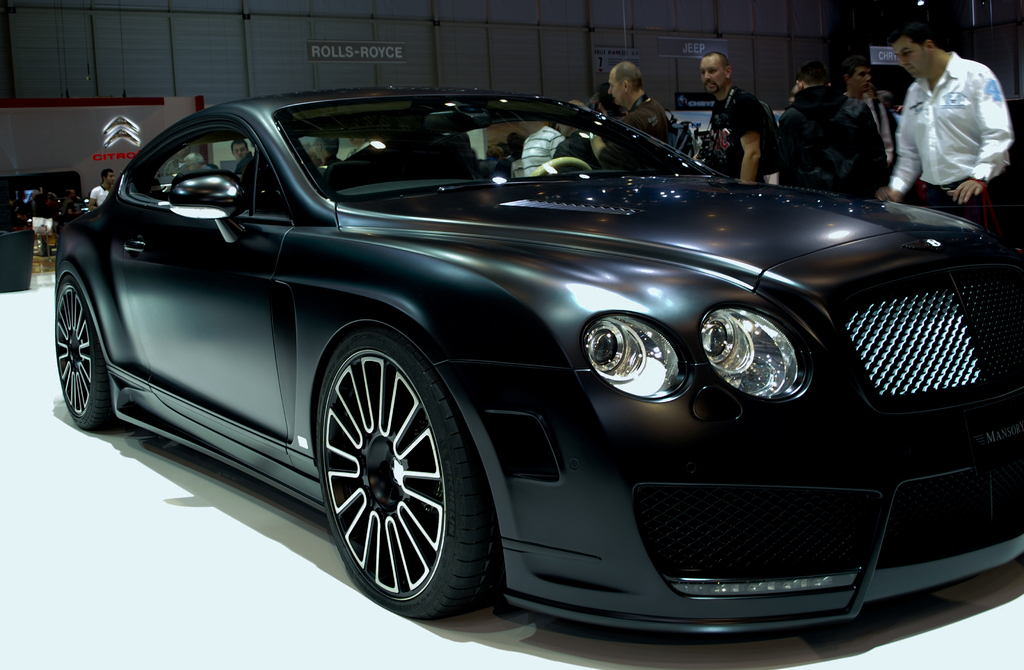Person: (0, 16, 1022, 260)
